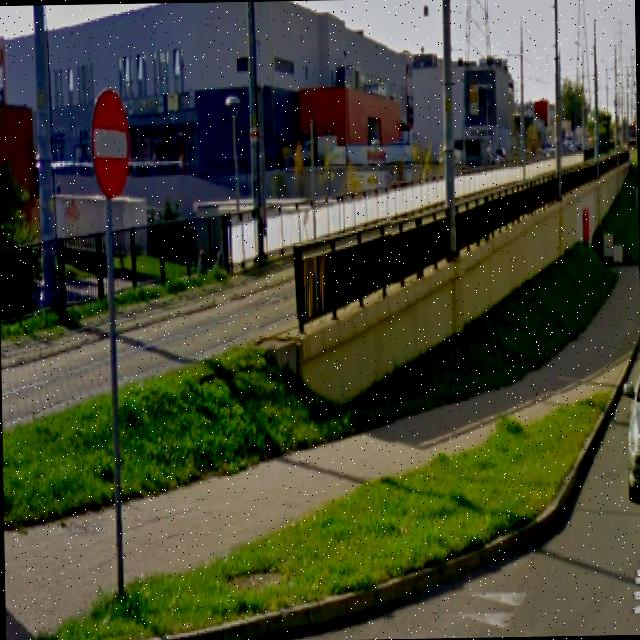Zakaz wjazdu: (89, 86, 129, 196)
